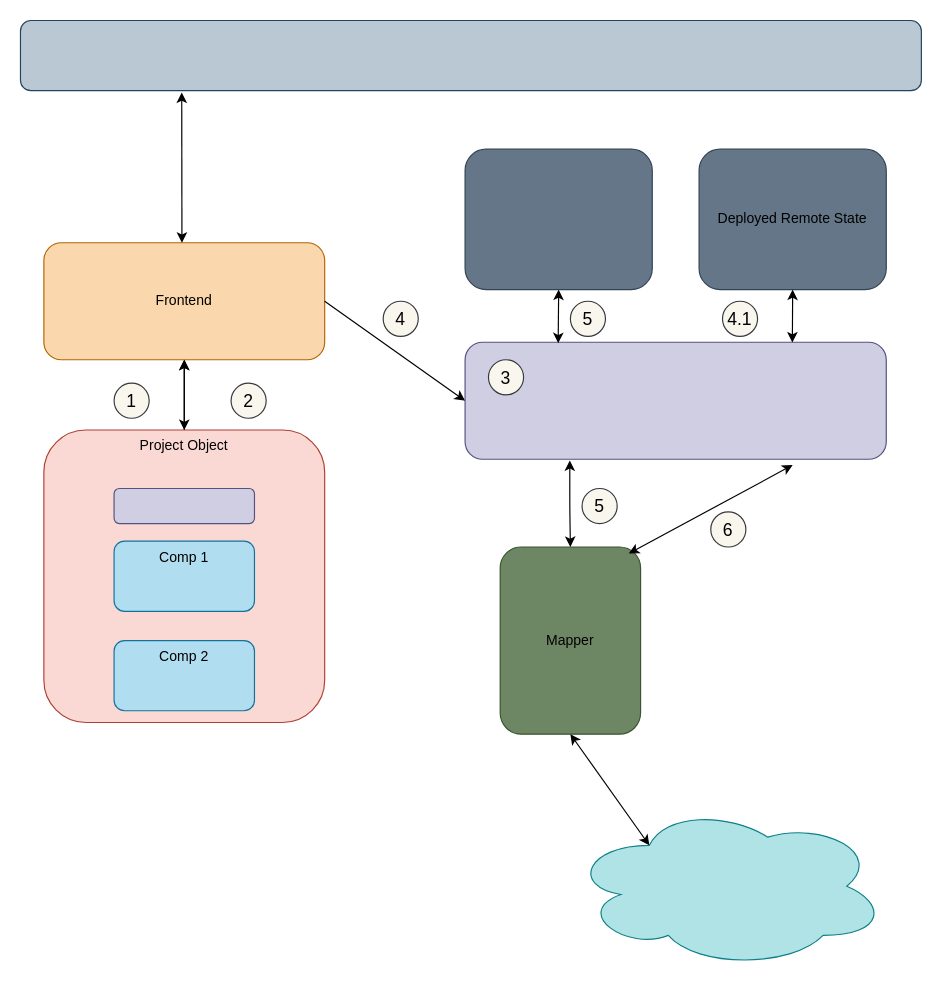
Image size: 942x989. Some labels were removed from this diagram. Each missing label, with the box of its shape:
Backend: (464, 341, 886, 459)
CLI/Commands: (19, 19, 921, 91)
Cloud Mapping: (464, 148, 652, 290)
Cloud Provider: (569, 803, 886, 968)
Project Settings: (113, 487, 254, 524)
